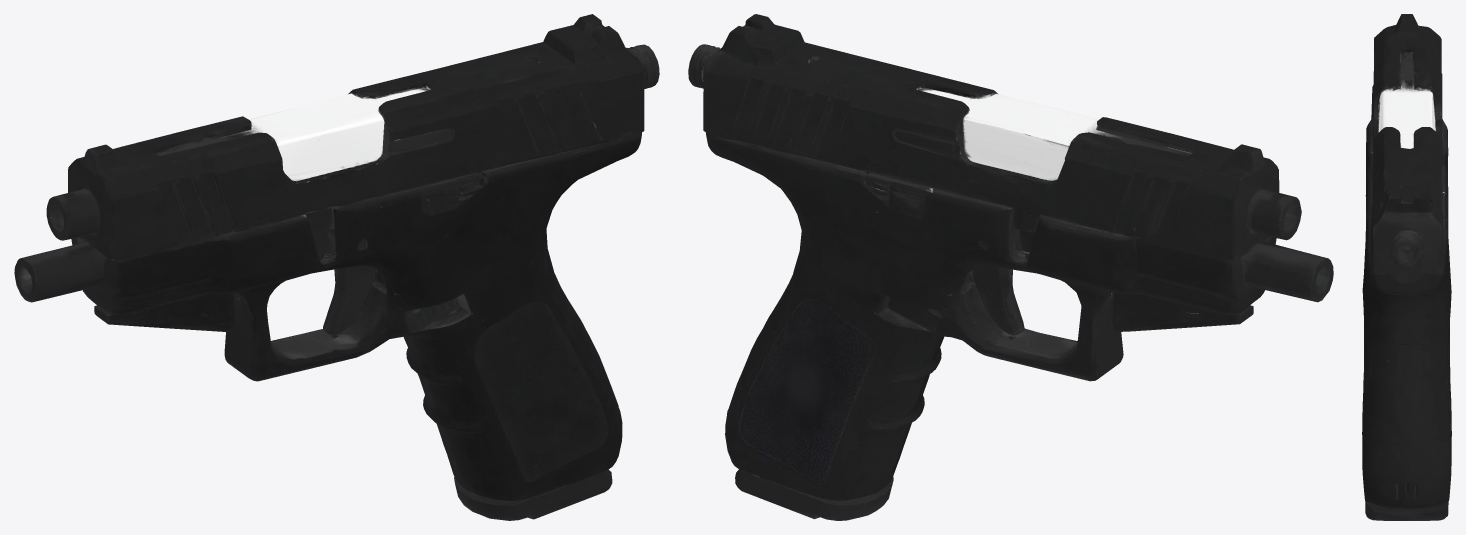
The model's file is pistol.glb.
The picture shows the model from 3 angles, left to right: view 1: azimuth 30°, elevation 25°; view 2: azimuth 150°, elevation 25°; view 3: azimuth 270°, elevation 25°; orthographic projection. The views are drawn at different scales.
Bounding box in the file's own units: 1.9 × 1.33 × 0.3173.
Materials: 1 (1 with a texture image).
